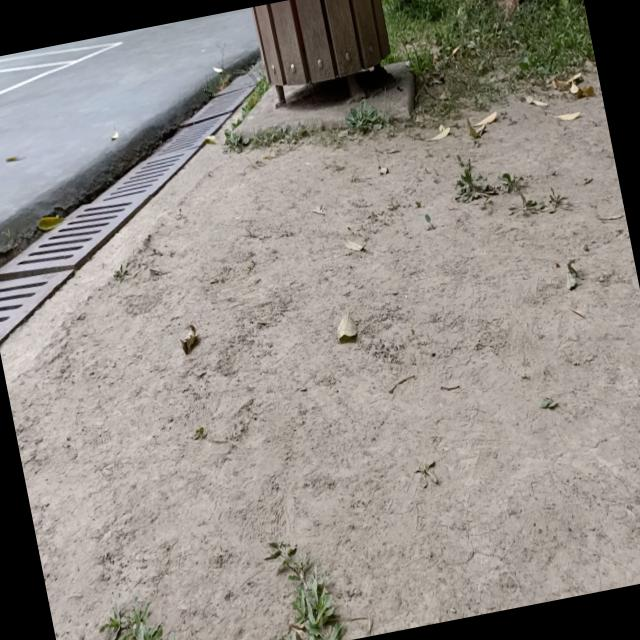grass: (383, 0, 596, 117), (272, 543, 343, 640), (102, 609, 163, 640)
white-sand: (0, 100, 640, 640)
